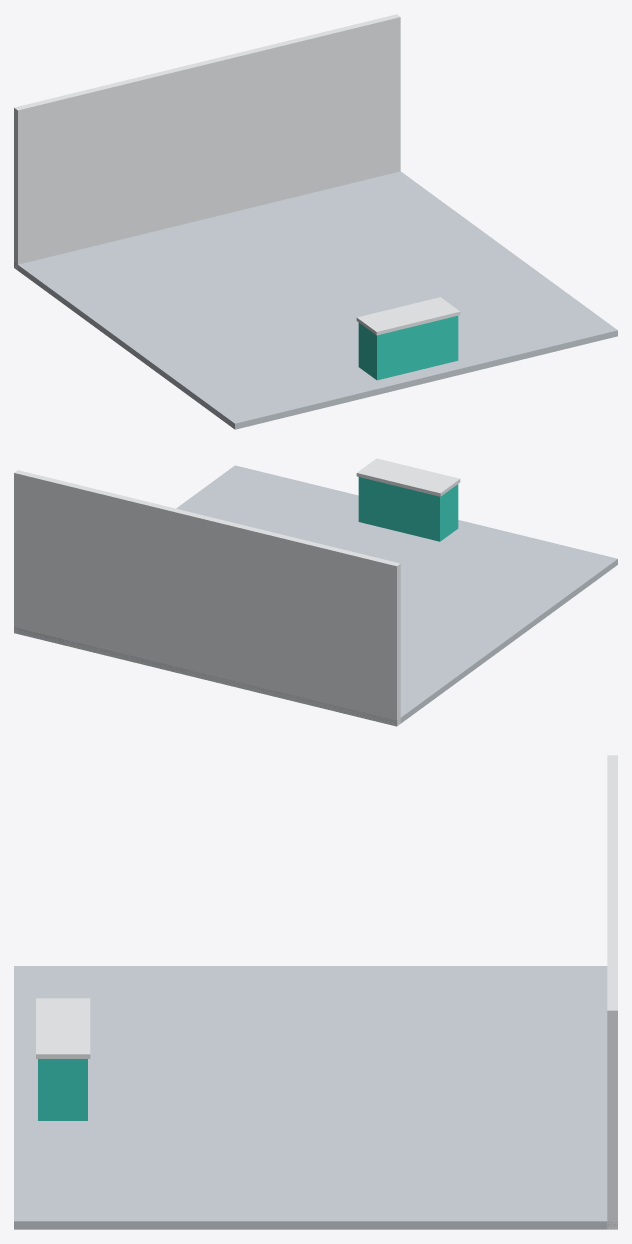
3 renders of one model, top to bottom at view 1: azimuth 30°, elevation 25°; view 2: azimuth 150°, elevation 25°; view 3: azimuth 270°, elevation 25°, orthographic. The views are drawn at different scales.
Parts seen in each view (by area): view 1: Exhibition Booth Concept; view 2: Exhibition Booth Concept; view 3: Exhibition Booth Concept.
Boxes of the visible parts, <box> form: Exhibition Booth Concept: <box>14,14,617,429</box>; Exhibition Booth Concept: <box>14,458,617,726</box>; Exhibition Booth Concept: <box>14,755,617,1229</box>.
Bounding box in the file's own units: 8 × 3.2 × 8.
